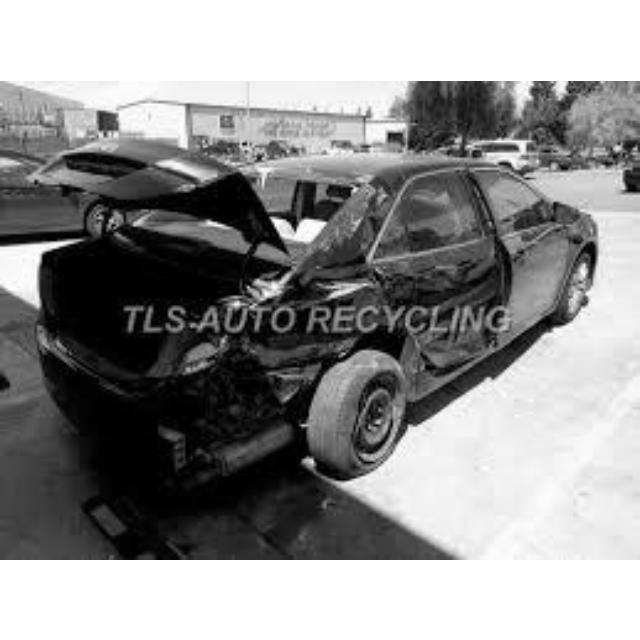doorouter-dent: (406, 261, 509, 369)
quaterpanel-dent: (275, 271, 388, 362)
rear-bumper-dent: (127, 407, 302, 478)
